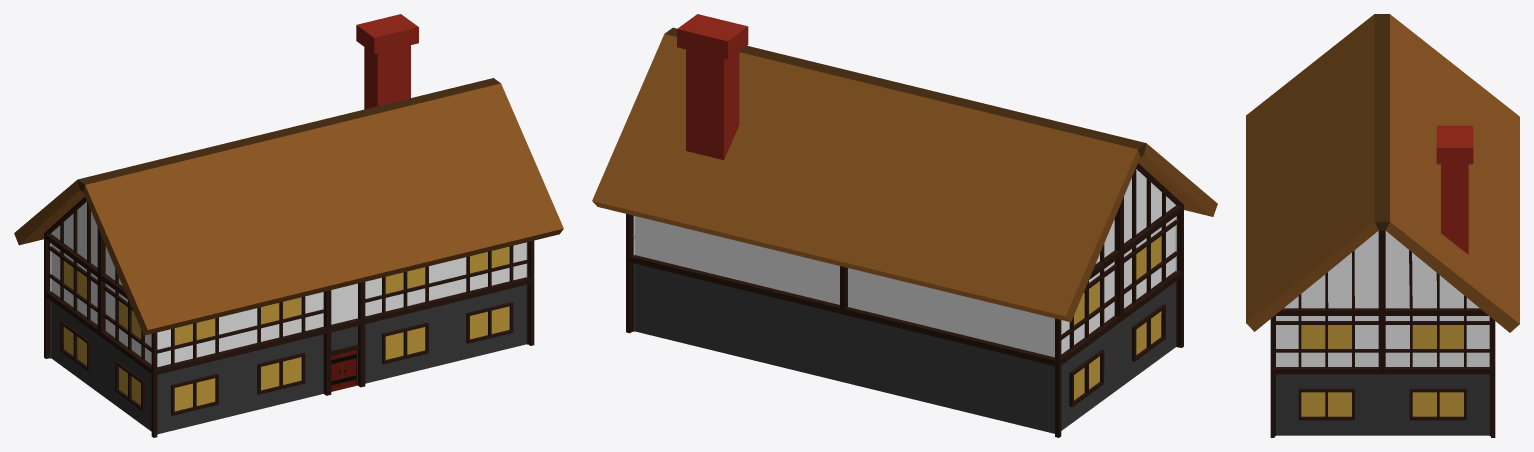
The model's file is Inn001.FBX.
The picture shows the model from 3 angles, left to right: view 1: azimuth 30°, elevation 25°; view 2: azimuth 150°, elevation 25°; view 3: azimuth 270°, elevation 25°; orthographic projection. The views are drawn at different scales.
Visible parts, largest first — view 1: Inn; view 2: Inn; view 3: Inn.
Part boxes in pixels (x1,y1,x2,y2): Inn: [14, 14, 563, 437]; Inn: [592, 14, 1217, 437]; Inn: [1246, 14, 1519, 437].
Bounding box in the file's own units: 350 × 215 × 195.
